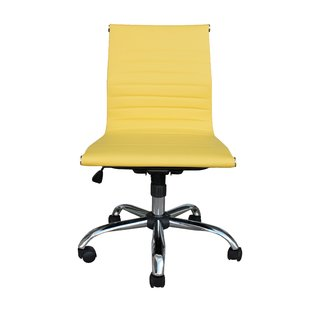chairs: (77, 23, 244, 292)
